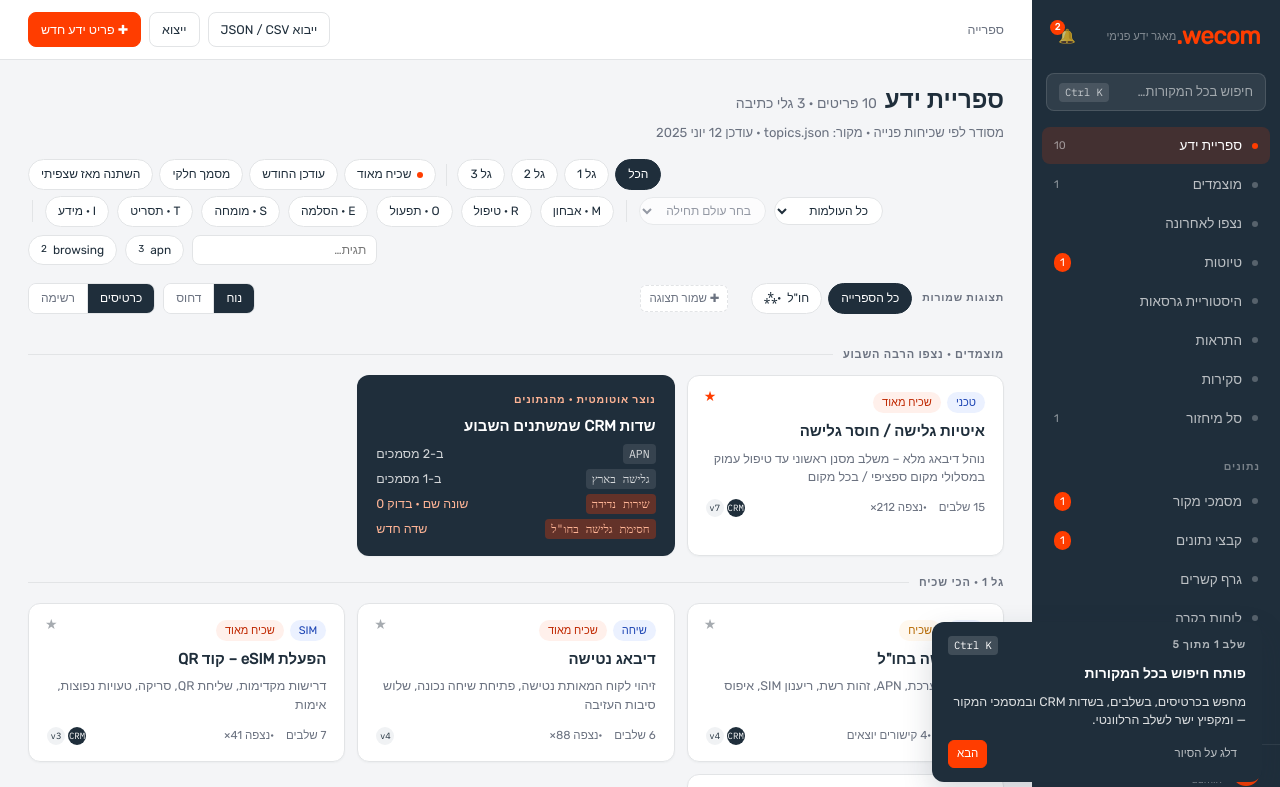
Test: palette actions for the connected-data screens › offers the three new destinations
Type keys "{Control>}k{/Control}"
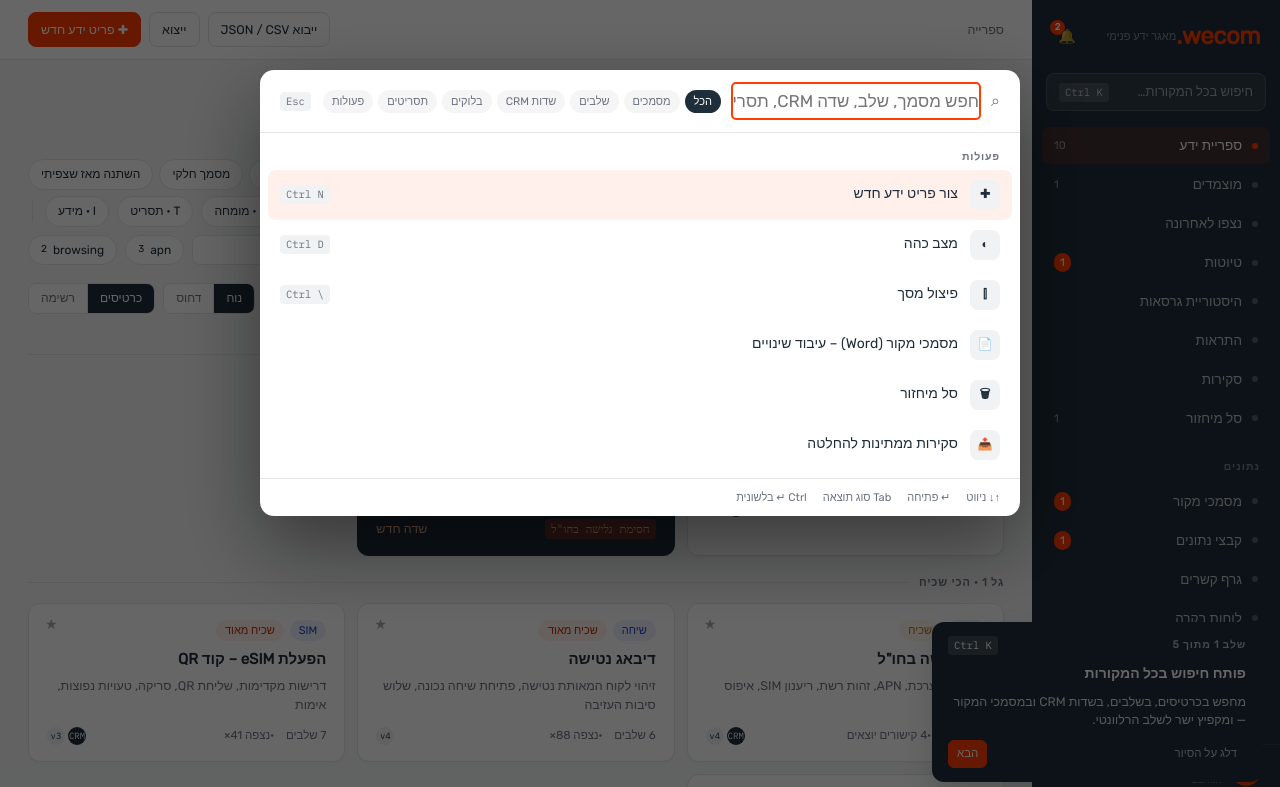
Type "גרף" into the field with placeholder "חפש מסמך, שלב, שדה CRM, תסריט או פעולה…" at (856, 101), box [733, 84, 979, 118]
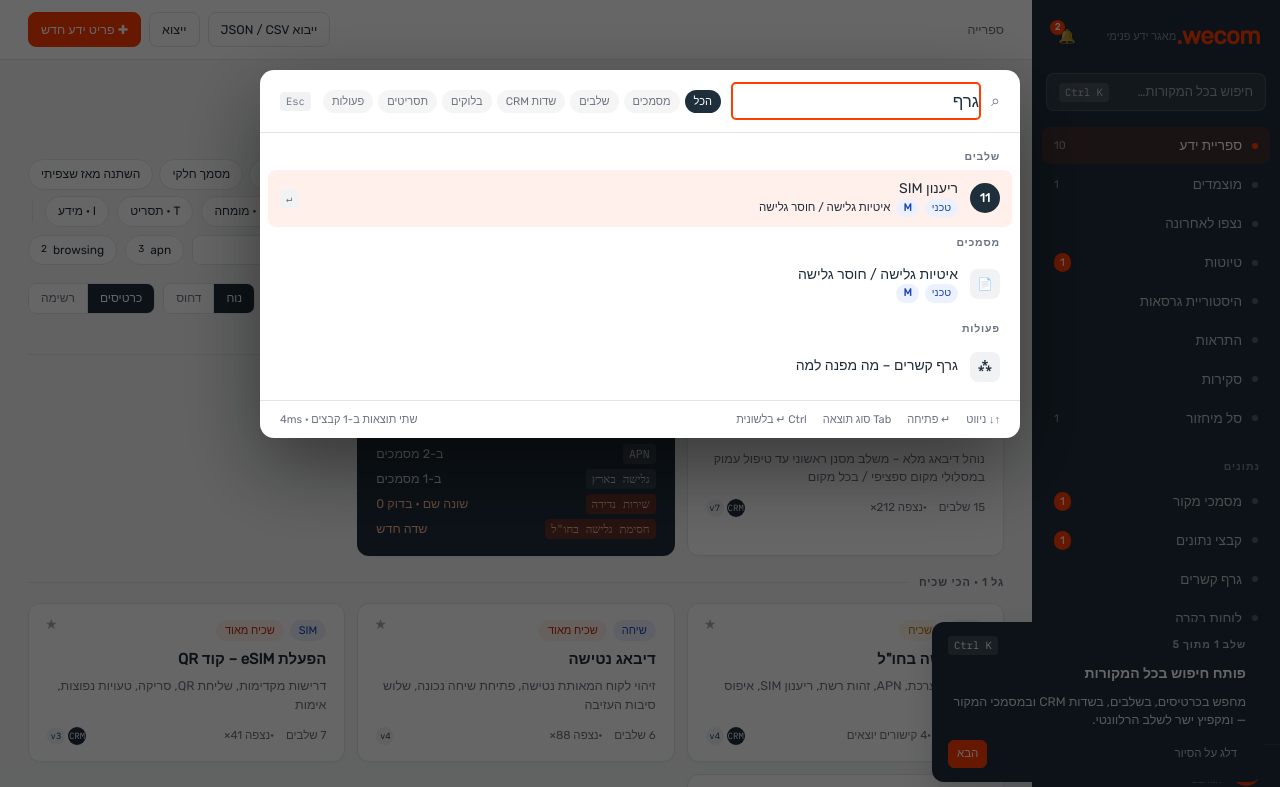
Check: the text "גרף קשרים – מה מפנה למה" is shown, box [796, 357, 958, 374]
